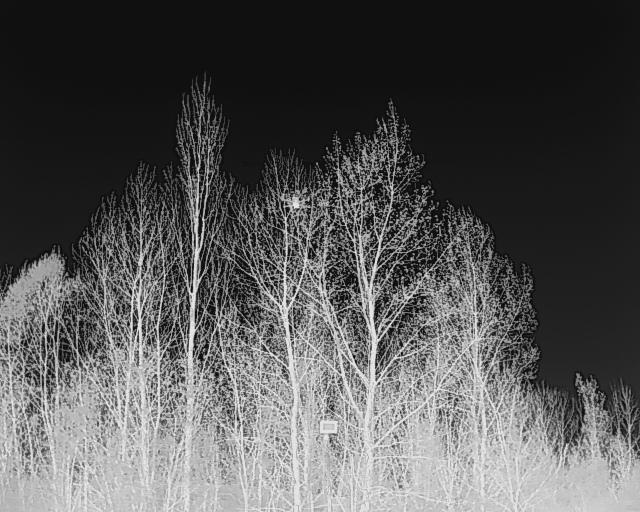drone: (276, 189, 317, 217)
